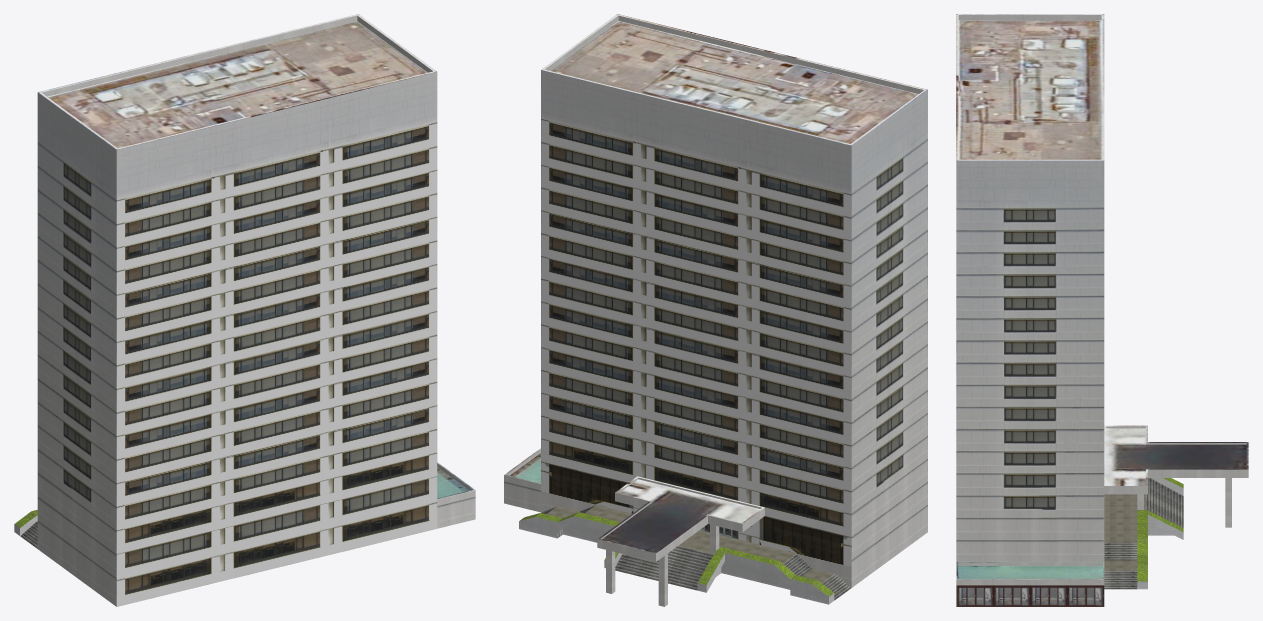
The model's file is BuildingAScaleddd.fbx.
3 views of the same model, side by side, from view 1: azimuth 30°, elevation 25°; view 2: azimuth 150°, elevation 25°; view 3: azimuth 270°, elevation 25° (orthographic). The views are drawn at different scales.
Parts seen in each view (by area): view 1: JKT_MTP_61.001, JKT_MTP_61.005; view 2: JKT_MTP_61.001, JKT_MTP_61, JKT_MTP_61.002, JKT_MTP_61.003, JKT_MTP_61.005, JKT_MTP_61.007; view 3: JKT_MTP_61.001, JKT_MTP_61, JKT_MTP_61.005, JKT_MTP_61.002, JKT_MTP_61.007.
Part boxes in pixels (x1,y1,x2,y2): JKT_MTP_61.001: [37, 14, 437, 606]; JKT_MTP_61.005: [437, 462, 475, 528]; JKT_MTP_61.001: [541, 14, 927, 587]; JKT_MTP_61: [597, 476, 764, 561]; JKT_MTP_61.002: [541, 505, 850, 600]; JKT_MTP_61.003: [697, 547, 834, 604]; JKT_MTP_61.005: [504, 448, 540, 512]; JKT_MTP_61.007: [519, 512, 622, 568]; JKT_MTP_61.001: [956, 14, 1104, 561]; JKT_MTP_61: [1104, 425, 1248, 494]; JKT_MTP_61.005: [956, 562, 1104, 606]; JKT_MTP_61.002: [1104, 478, 1183, 589]; JKT_MTP_61.007: [1137, 510, 1183, 589].
Size of the model in its own units: 1466 by 1784 by 1104.
